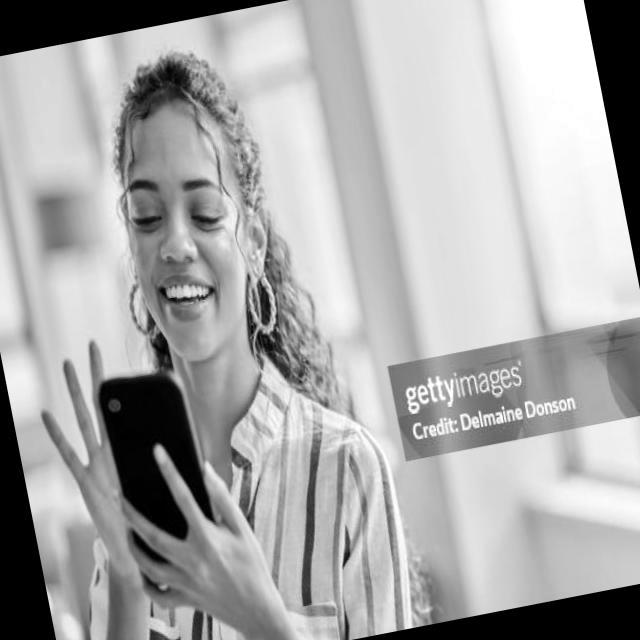phone: (95, 362, 228, 596)
